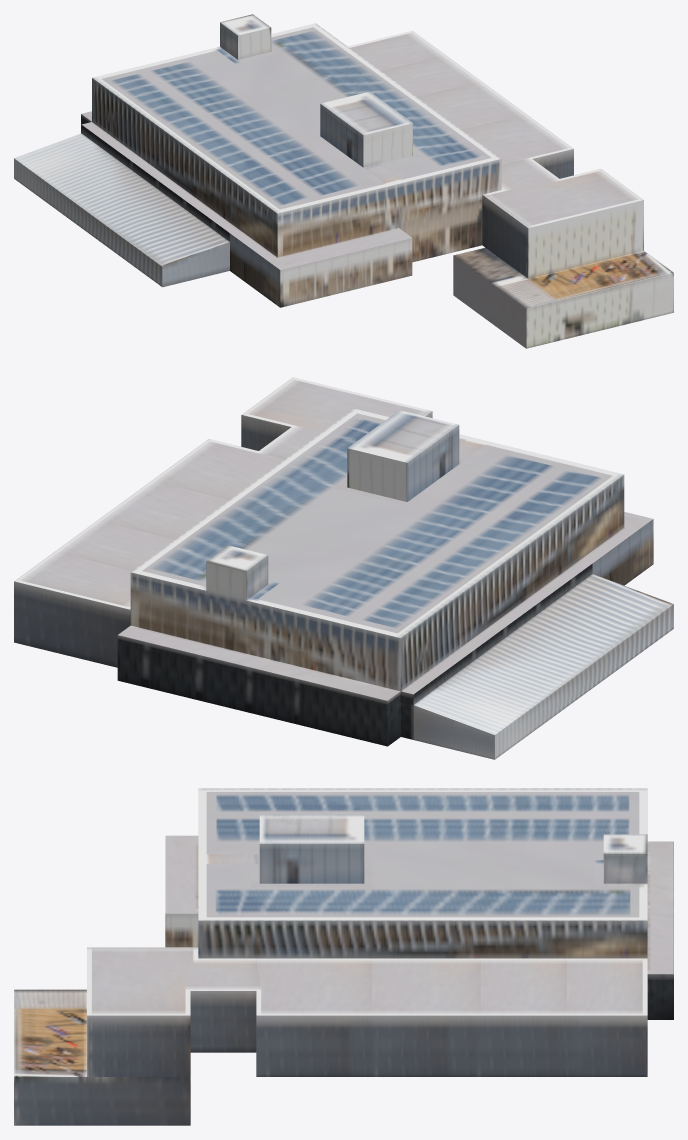
The model's file is ICJ00004.glb.
3 views of the same model, one above another, from view 1: azimuth 30°, elevation 25°; view 2: azimuth 150°, elevation 25°; view 3: azimuth 270°, elevation 25° (orthographic). The views are drawn at different scales.
Visible parts, largest first — view 1: MainBuilding; view 2: MainBuilding; view 3: MainBuilding.
Boxes of the visible parts, x1,y1,x2,y2 form: MainBuilding: (14,14,673,348); MainBuilding: (14,377,673,759); MainBuilding: (14,788,673,1125).
Bounding box in the file's own units: 298 × 110 × 353.
1 material, 1 textured.
